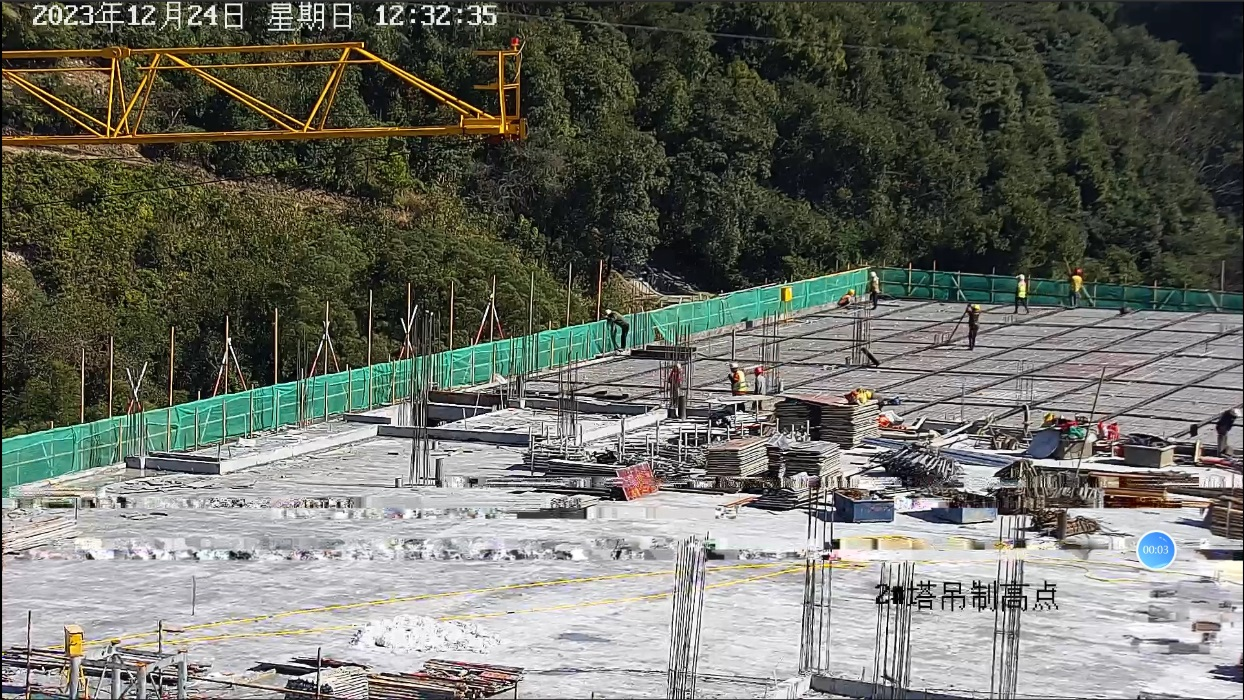person: (1212, 407, 1242, 453), (603, 308, 630, 351), (665, 360, 686, 402), (965, 302, 983, 350), (1012, 272, 1029, 314), (1068, 265, 1084, 306), (726, 363, 746, 395), (867, 270, 882, 310), (752, 366, 767, 395), (837, 288, 857, 307)
